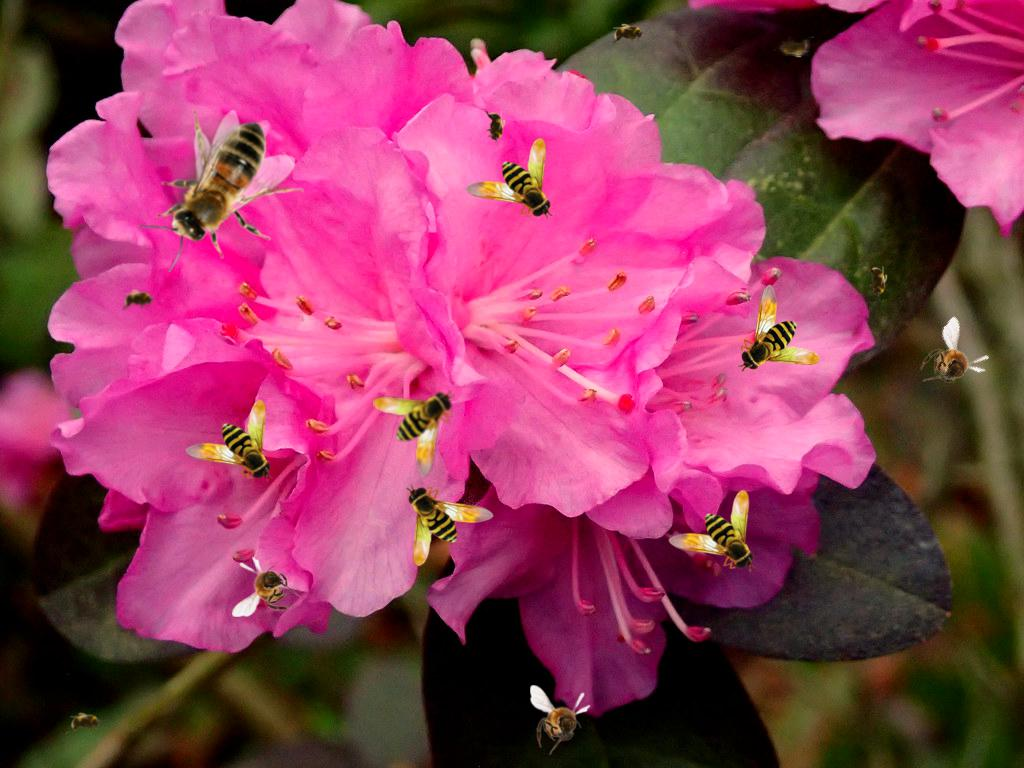Bee: (137, 110, 304, 272), (907, 315, 1000, 409), (406, 484, 494, 566), (465, 138, 553, 220), (185, 400, 273, 482), (373, 390, 455, 478), (668, 490, 756, 572), (738, 284, 820, 372), (530, 685, 591, 755), (232, 556, 302, 617), (66, 712, 106, 734), (609, 23, 649, 45), (484, 107, 506, 147), (774, 36, 814, 58), (866, 262, 888, 302), (119, 289, 159, 311)
